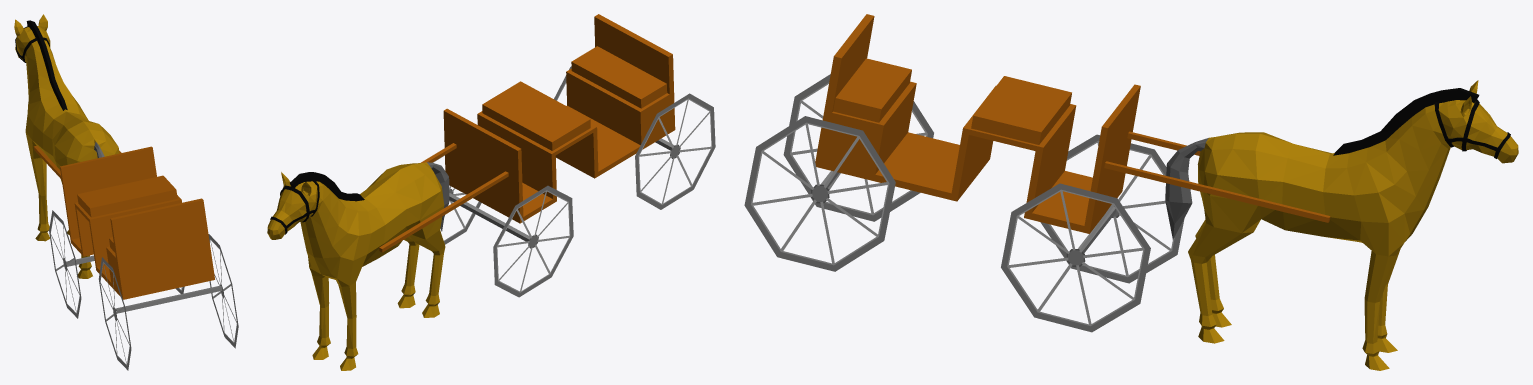
Rendered from CarriageRides.gltf.
3 views of the same model, side by side, from view 1: azimuth 30°, elevation 25°; view 2: azimuth 150°, elevation 25°; view 3: azimuth 270°, elevation 25° (orthographic). The views are drawn at different scales.
Parts seen in each view (by area): view 1: Mesh9 carriage1 HORSE_AND_CARRIAGE1 Model, Mesh27 skpTIY9iY1 HORSE_AND_CARRIAGE1 Model, Mesh10 carriage1 HORSE_AND_CARRIAGE1 Model, Mesh12 carriage1 HORSE_AND_CARRIAGE1 Model, Mesh5 Group2 carriage1 HORSE_AND_CARRIAGE1 Model, Mesh28 skpTIY9iY1 HORSE_AND_CARRIAGE1 Model, Mesh13 carriage1 HORSE_AND_CARRIAGE1 Model; view 2: Mesh9 carriage1 HORSE_AND_CARRIAGE1 Model, Mesh27 skpTIY9iY1 HORSE_AND_CARRIAGE1 Model, Mesh10 carriage1 HORSE_AND_CARRIAGE1 Model, Mesh12 carriage1 HORSE_AND_CARRIAGE1 Model, Mesh28 skpTIY9iY1 HORSE_AND_CARRIAGE1 Model, Mesh11 carriage1 HORSE_AND_CARRIAGE1 Model, Mesh26 skpTIY9iY1 HORSE_AND_CARRIAGE1 Model; view 3: Mesh27 skpTIY9iY1 HORSE_AND_CARRIAGE1 Model, Mesh9 carriage1 HORSE_AND_CARRIAGE1 Model, Mesh5 Group2 carriage1 HORSE_AND_CARRIAGE1 Model, Mesh1 Group1 carriage1 HORSE_AND_CARRIAGE1 Model, Mesh12 carriage1 HORSE_AND_CARRIAGE1 Model, Mesh10 carriage1 HORSE_AND_CARRIAGE1 Model, Mesh28 skpTIY9iY1 HORSE_AND_CARRIAGE1 Model, Mesh26 skpTIY9iY1 HORSE_AND_CARRIAGE1 Model.
Part boxes in pixels (x1,y1,x2,y2): Mesh9 carriage1 HORSE_AND_CARRIAGE1 Model: [33, 145, 214, 299]; Mesh27 skpTIY9iY1 HORSE_AND_CARRIAGE1 Model: [14, 14, 119, 278]; Mesh10 carriage1 HORSE_AND_CARRIAGE1 Model: [98, 257, 131, 370]; Mesh12 carriage1 HORSE_AND_CARRIAGE1 Model: [49, 210, 81, 318]; Mesh5 Group2 carriage1 HORSE_AND_CARRIAGE1 Model: [208, 234, 238, 348]; Mesh28 skpTIY9iY1 HORSE_AND_CARRIAGE1 Model: [26, 20, 67, 110]; Mesh13 carriage1 HORSE_AND_CARRIAGE1 Model: [115, 285, 222, 313]; Mesh9 carriage1 HORSE_AND_CARRIAGE1 Model: [379, 14, 675, 252]; Mesh27 skpTIY9iY1 HORSE_AND_CARRIAGE1 Model: [267, 162, 449, 370]; Mesh10 carriage1 HORSE_AND_CARRIAGE1 Model: [635, 93, 715, 209]; Mesh12 carriage1 HORSE_AND_CARRIAGE1 Model: [493, 185, 573, 297]; Mesh28 skpTIY9iY1 HORSE_AND_CARRIAGE1 Model: [290, 172, 364, 201]; Mesh11 carriage1 HORSE_AND_CARRIAGE1 Model: [449, 193, 530, 241]; Mesh26 skpTIY9iY1 HORSE_AND_CARRIAGE1 Model: [270, 179, 319, 234]; Mesh27 skpTIY9iY1 HORSE_AND_CARRIAGE1 Model: [1165, 80, 1518, 370]; Mesh9 carriage1 HORSE_AND_CARRIAGE1 Model: [815, 14, 1330, 233]; Mesh5 Group2 carriage1 HORSE_AND_CARRIAGE1 Model: [744, 116, 895, 271]; Mesh1 Group1 carriage1 HORSE_AND_CARRIAGE1 Model: [1001, 183, 1150, 332]; Mesh12 carriage1 HORSE_AND_CARRIAGE1 Model: [1040, 134, 1184, 283]; Mesh10 carriage1 HORSE_AND_CARRIAGE1 Model: [783, 74, 933, 221]; Mesh28 skpTIY9iY1 HORSE_AND_CARRIAGE1 Model: [1333, 88, 1479, 155]; Mesh26 skpTIY9iY1 HORSE_AND_CARRIAGE1 Model: [1434, 99, 1510, 158].
Size of the model in its own units: 516 by 577 by 1471.
